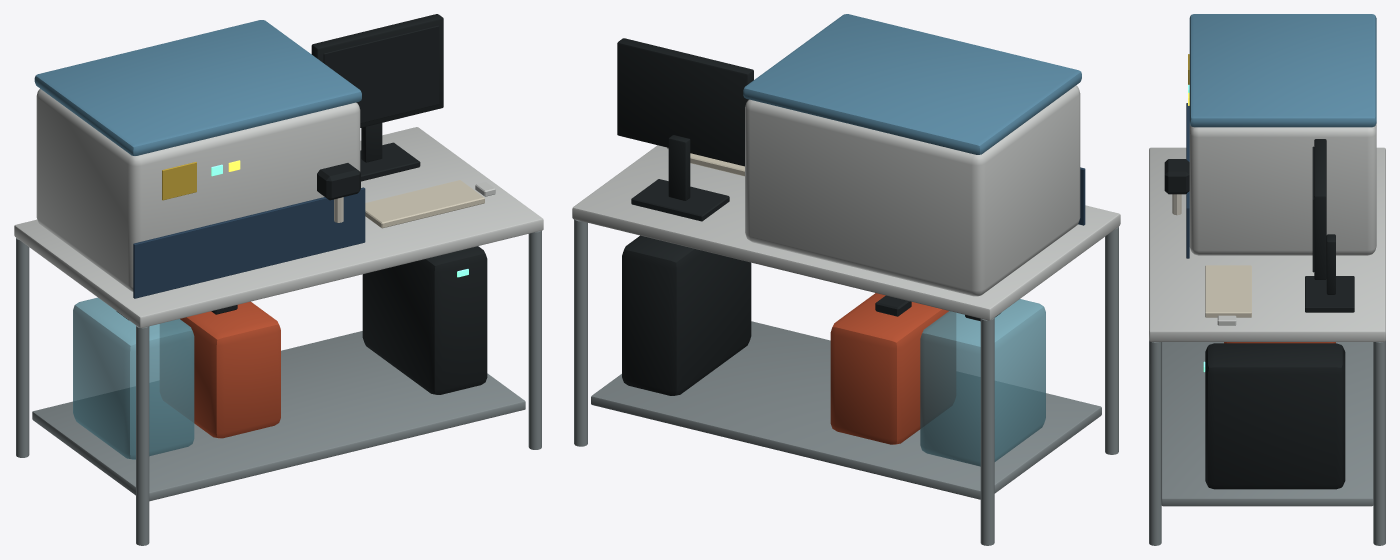
Rendered from flow-cytometer.glb.
3 views of the same model, side by side, from view 1: azimuth 30°, elevation 25°; view 2: azimuth 150°, elevation 25°; view 3: azimuth 270°, elevation 25° (orthographic). The views are drawn at different scales.
Parts seen in each view (by area): view 1: flow-cytometer; view 2: flow-cytometer; view 3: flow-cytometer.
Boxes of the visible parts, box(x1,y1,x2,y2) form: flow-cytometer: box(14, 14, 543, 545); flow-cytometer: box(572, 14, 1120, 545); flow-cytometer: box(1149, 14, 1385, 545).
Bounding box in the file's own units: 1.4 × 1.26 × 0.76.
